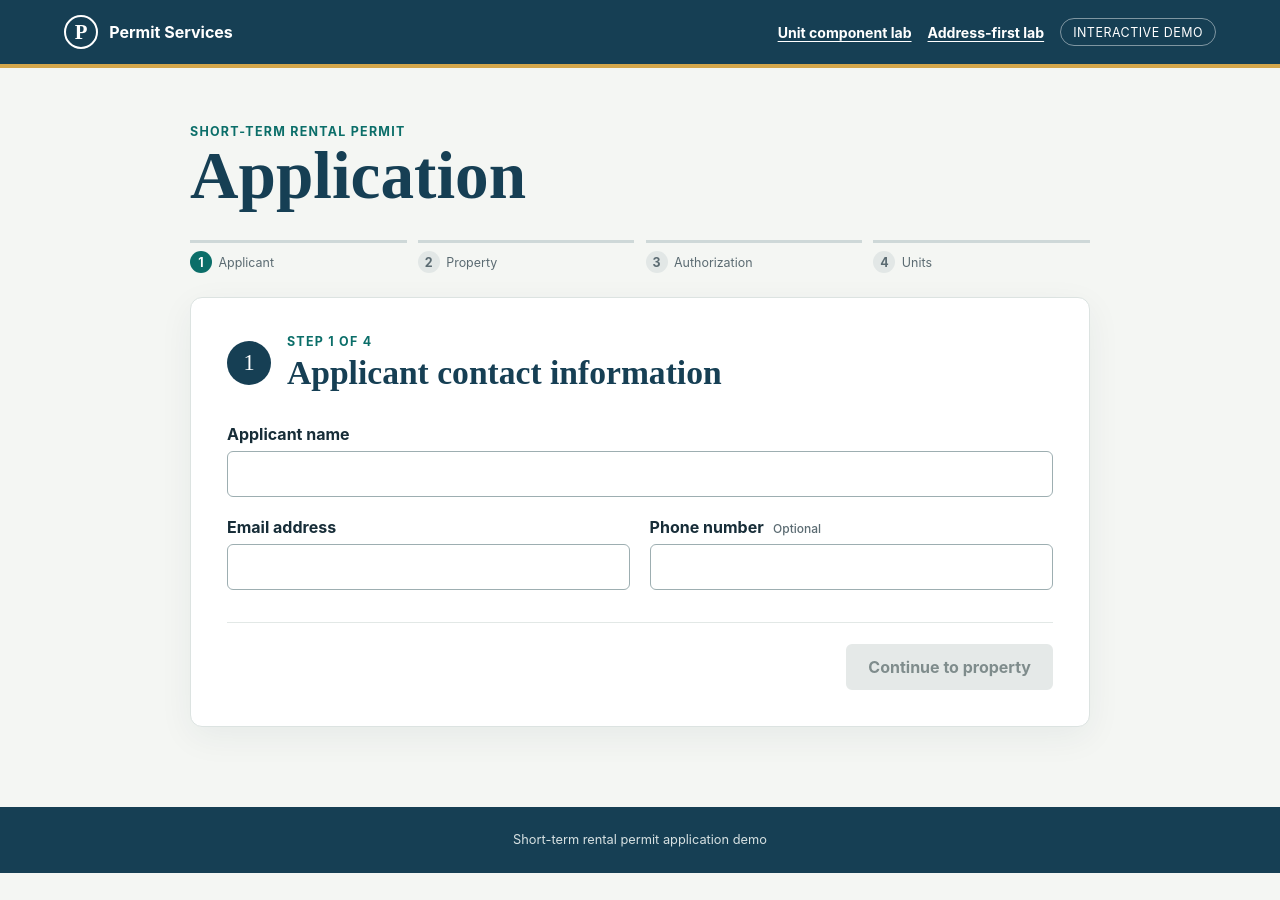
Test: STR permit application › reveals property search only after valid required contact information
The width and height of the screenshot is (1280, 900).
Expected: the button "Continue to property" is disabled, [846, 644, 1053, 690]
Type "Taylor Morgan" into the field with id "applicant-name" at (640, 474), box [227, 451, 1053, 497]
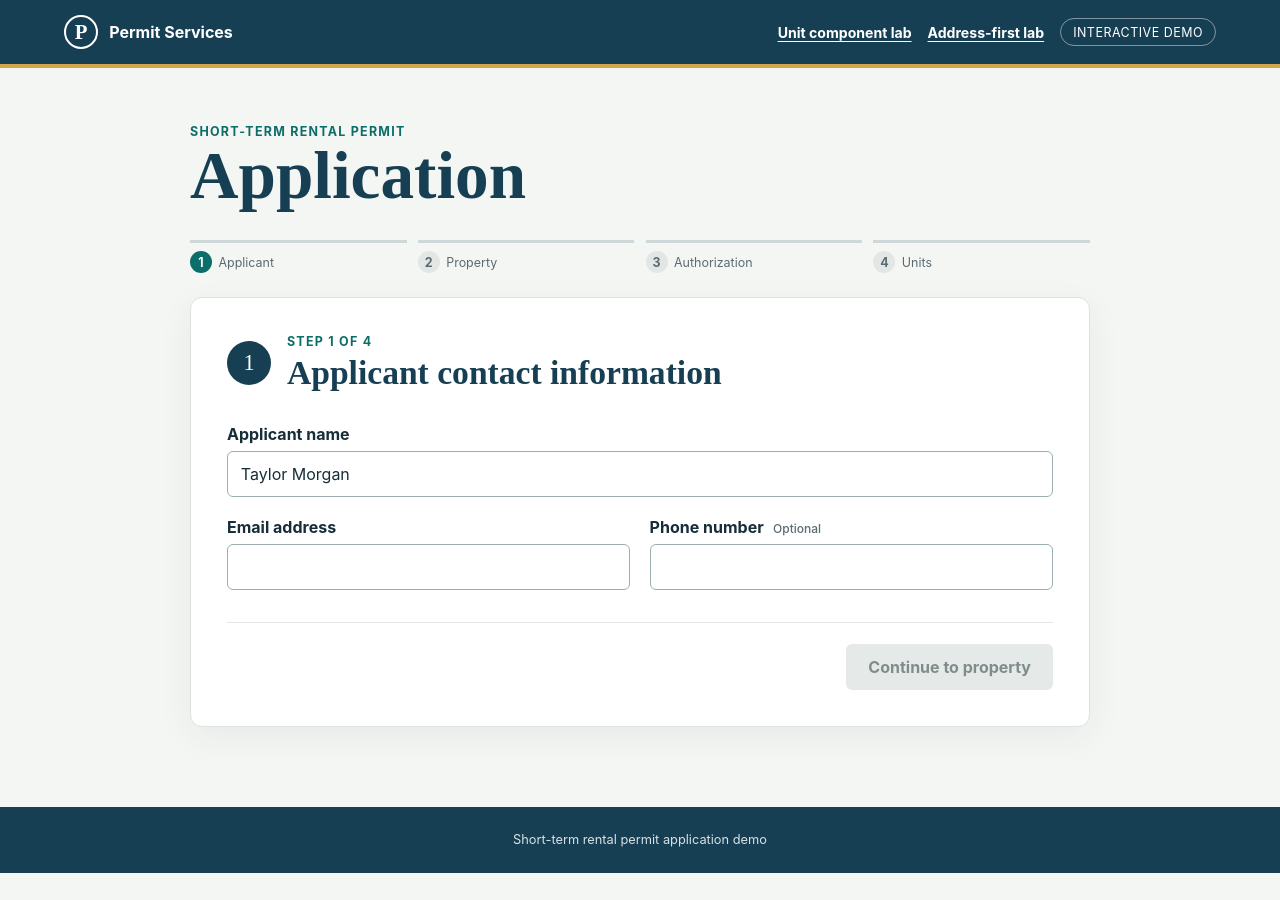
Type "not-an-email" into the field with id "applicant-email" at (429, 567), box [227, 544, 630, 590]
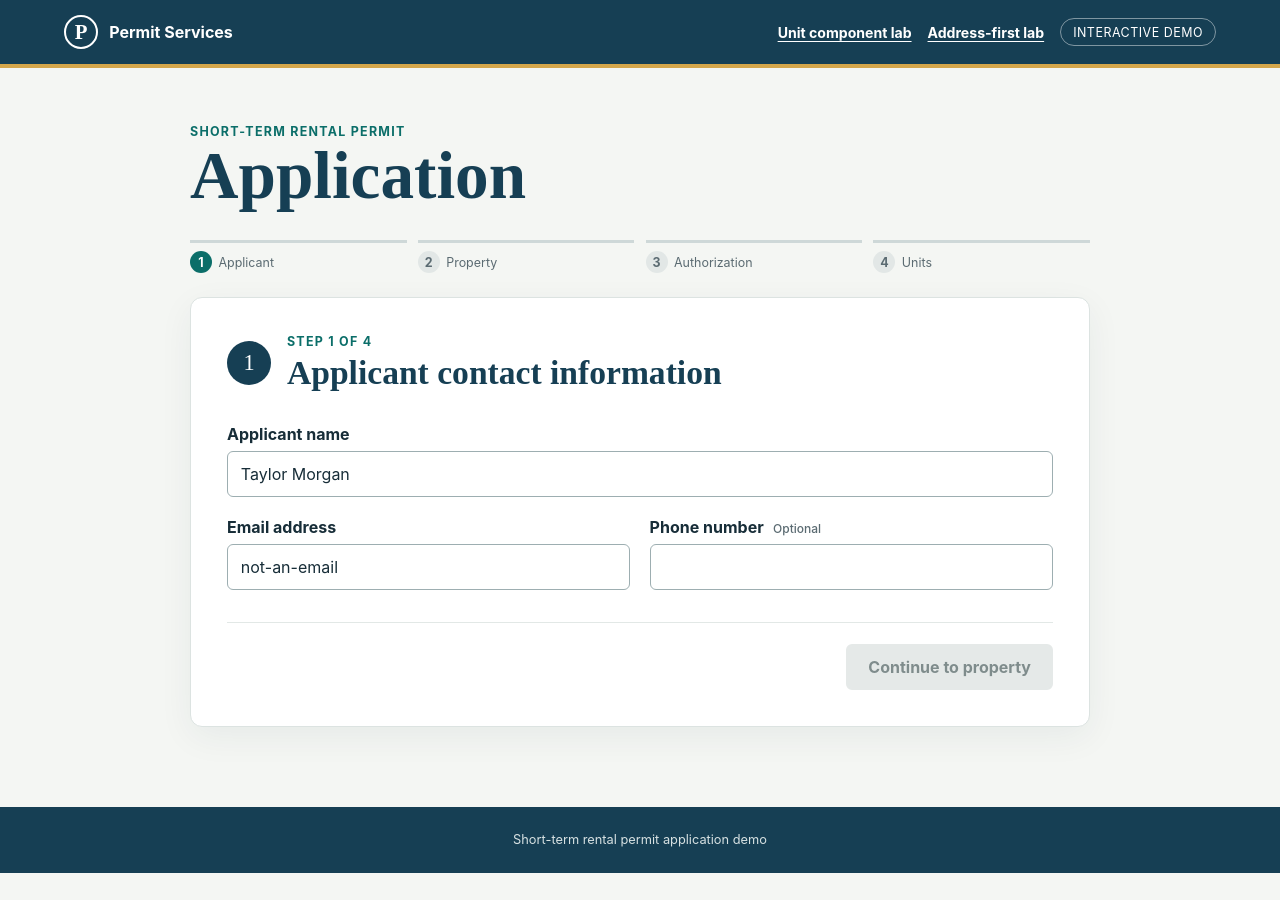
Expected: the button "Continue to property" is disabled, [846, 644, 1053, 690]
Replace the text in the field with id "applicant-email" with "taylor@example.com" at (429, 567), box [227, 544, 630, 590]
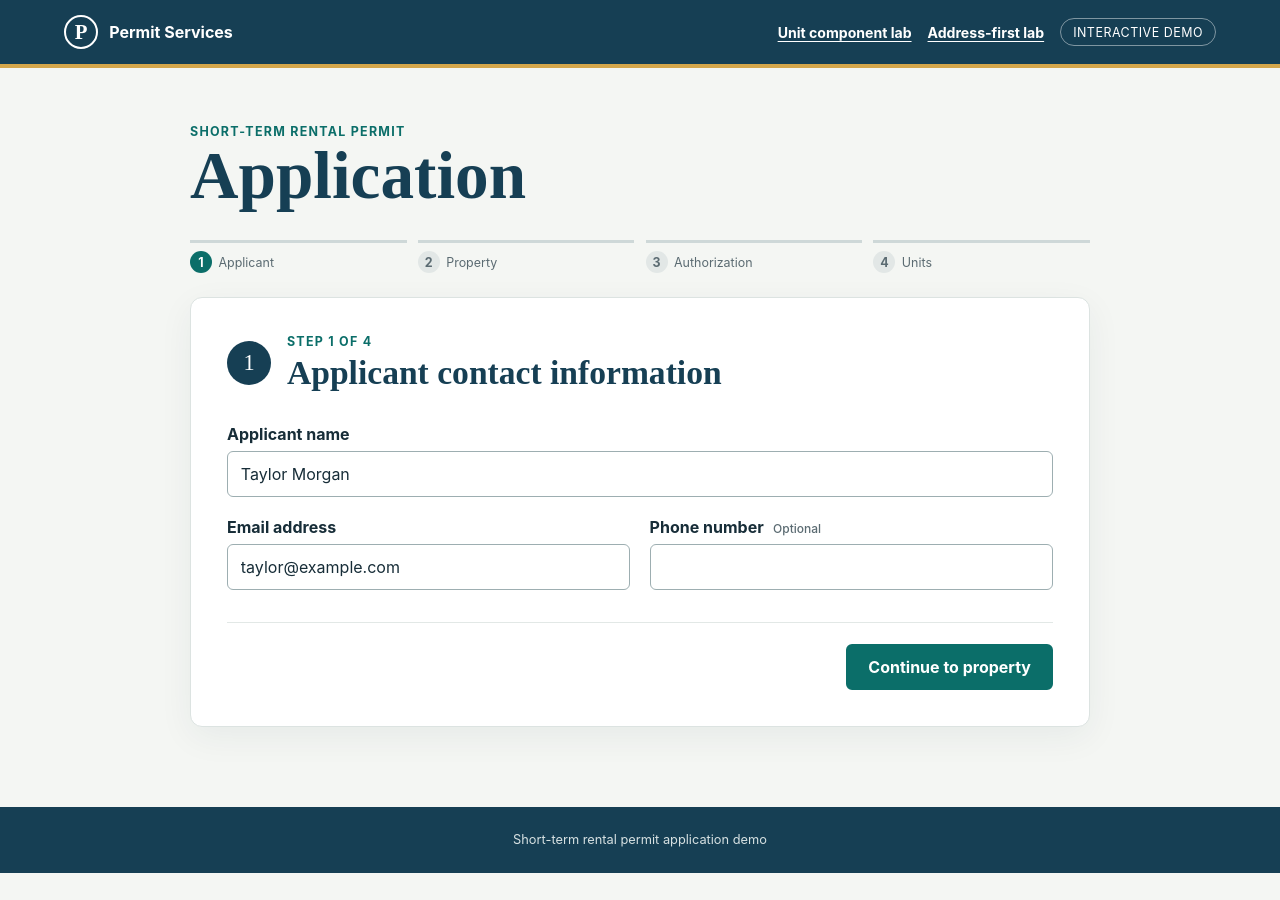
Result: the button "Continue to property" is enabled
Click the button "Continue to property" at (950, 667), box [846, 644, 1053, 690]
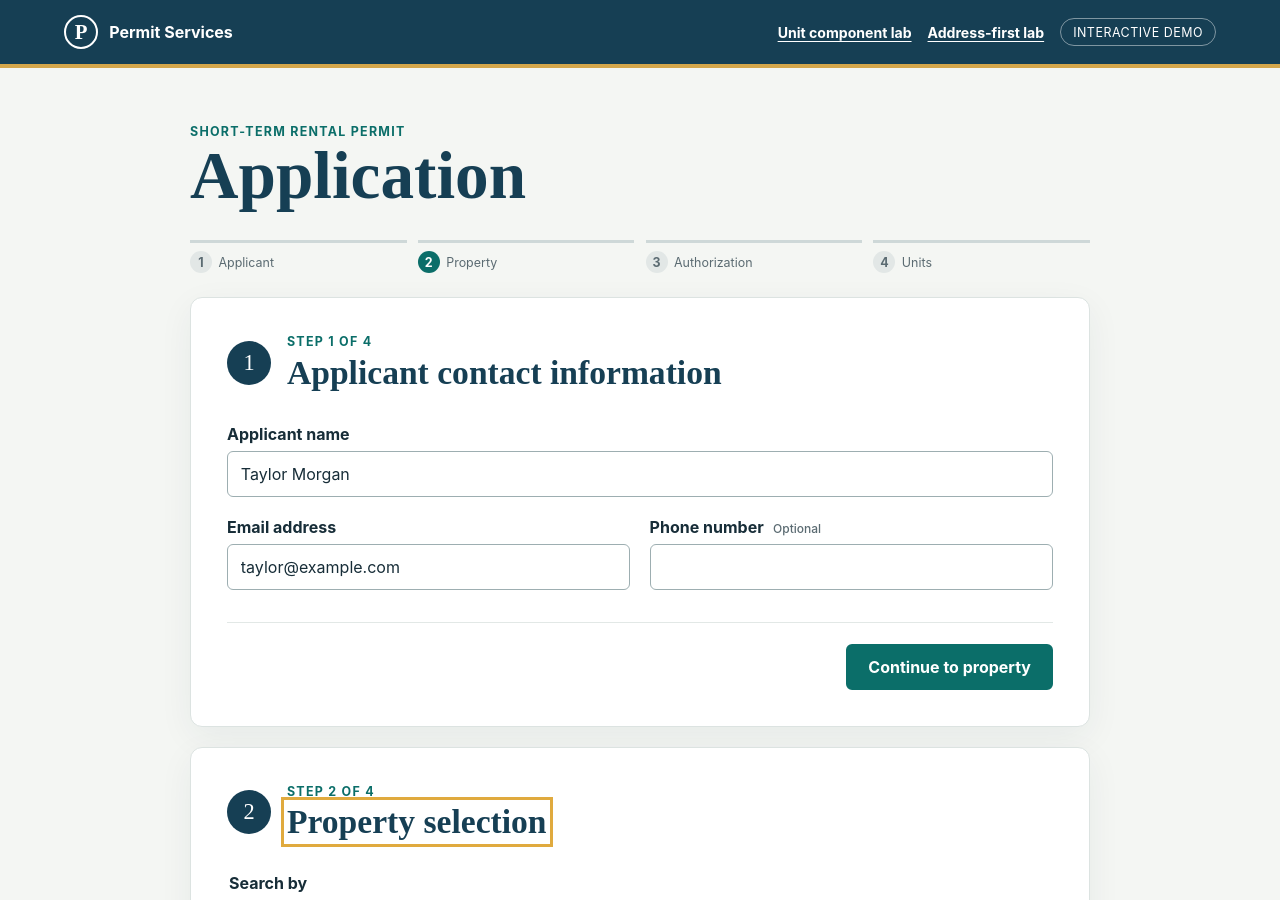
Result: the heading "Property selection" is shown at [287, 803, 546, 841]
